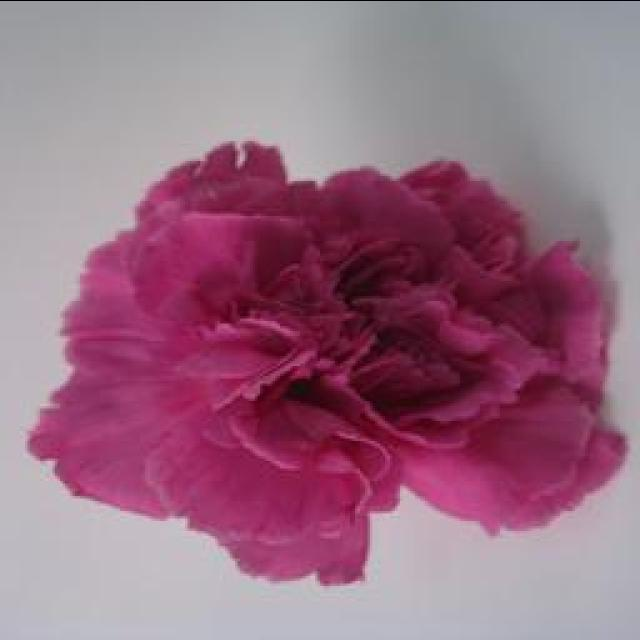carnation: (0, 136, 640, 622)
